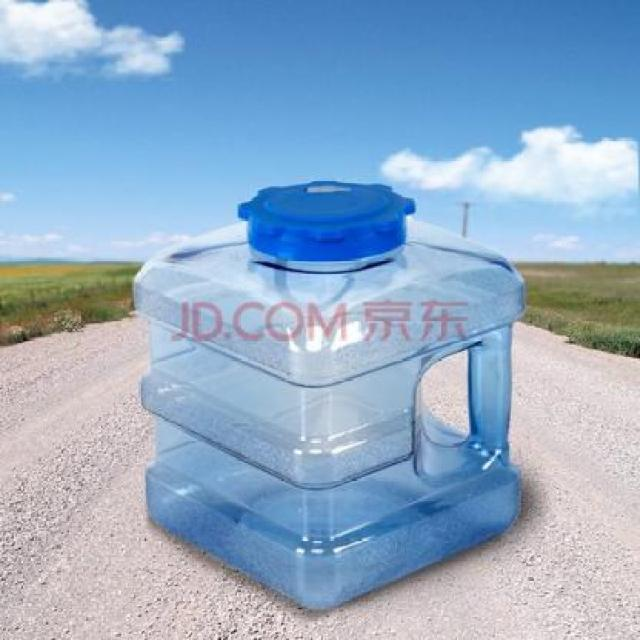coolerbottle: (132, 174, 530, 616)
